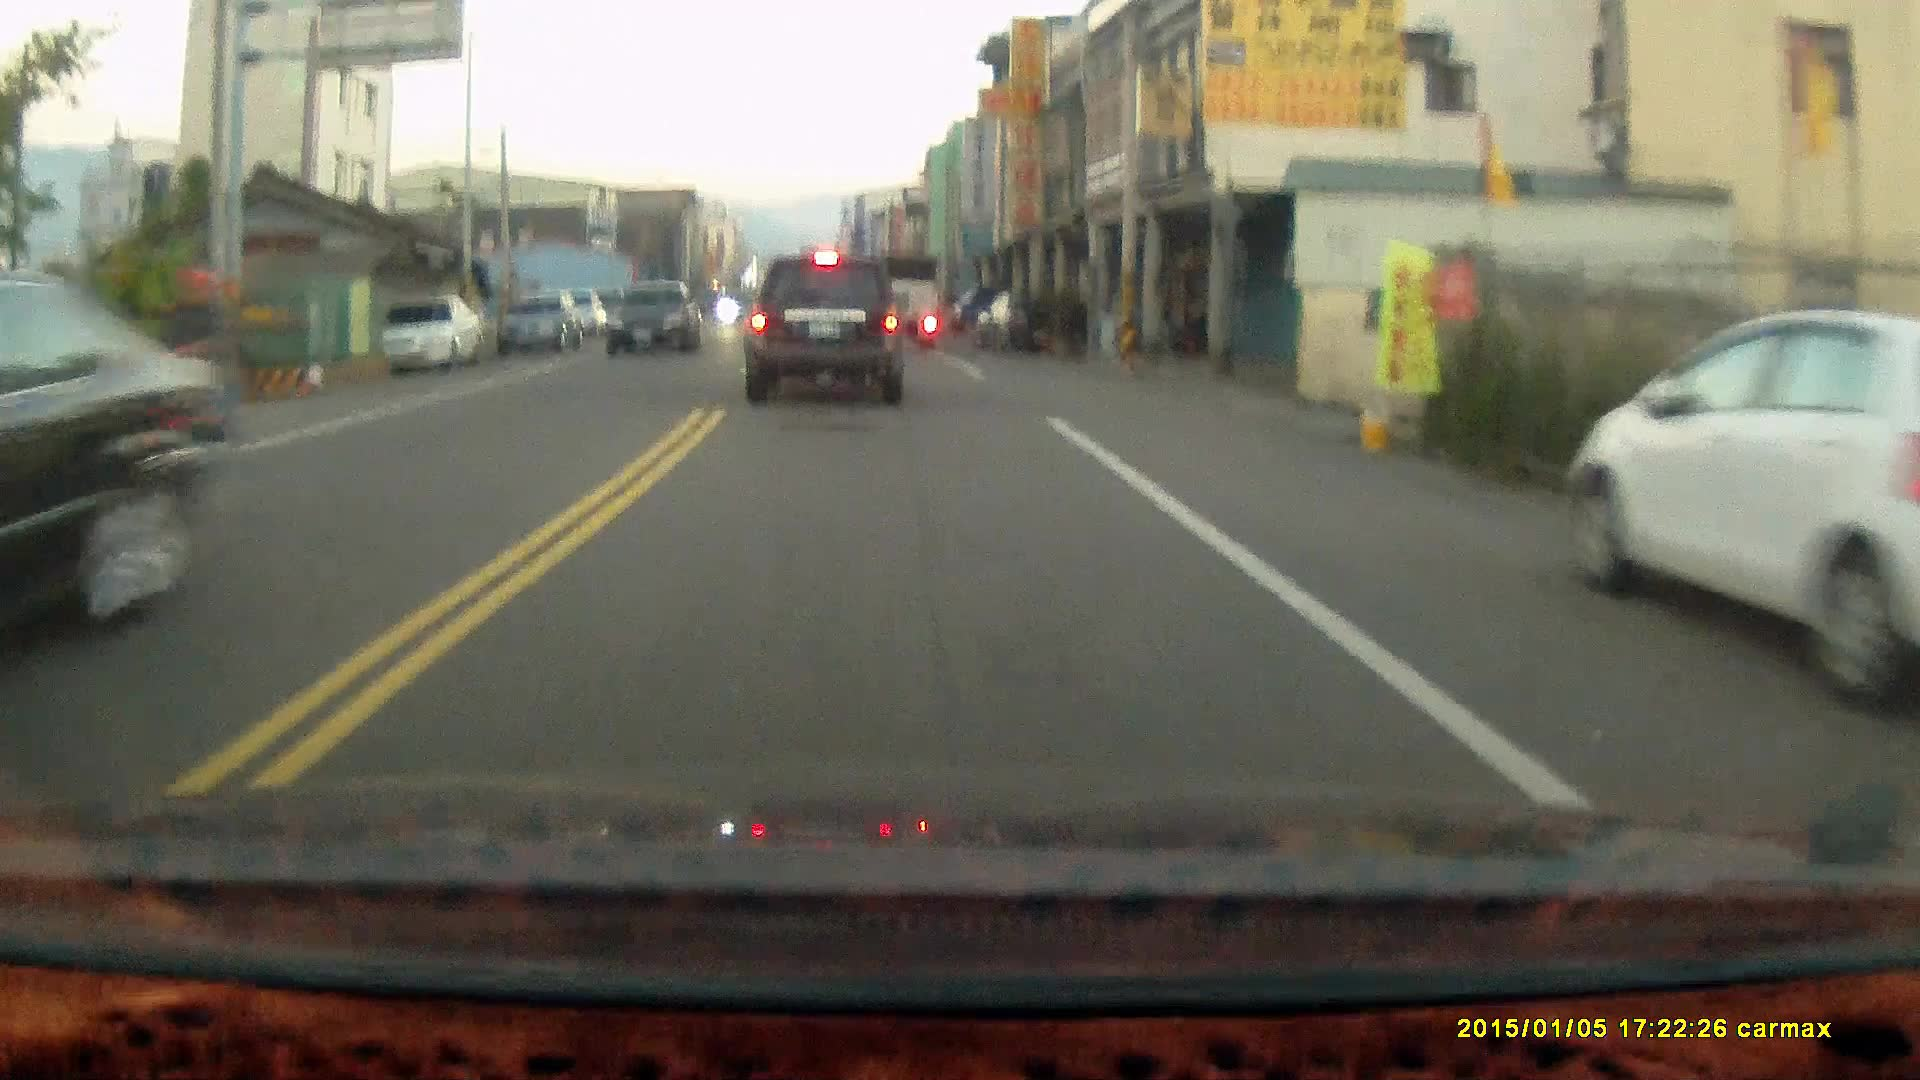vehicle: (1557, 306, 1920, 698), (1, 282, 228, 680), (745, 258, 909, 414), (376, 297, 484, 371), (862, 255, 943, 353), (609, 287, 704, 357), (496, 290, 584, 357)
